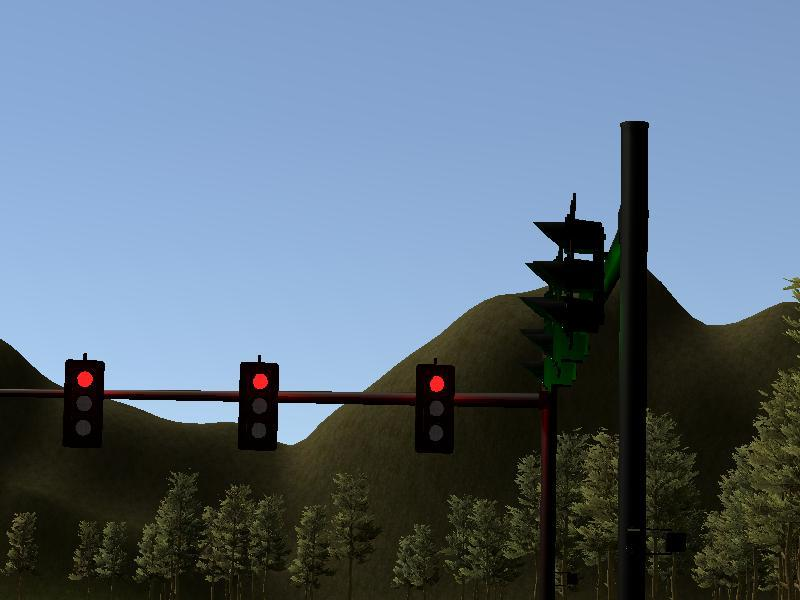Red: (414, 367, 454, 455), (64, 358, 103, 447), (239, 362, 278, 449)
